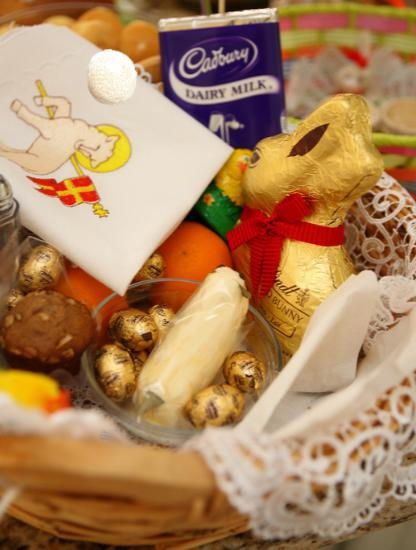Cantaloupe: (85, 49, 141, 105)
